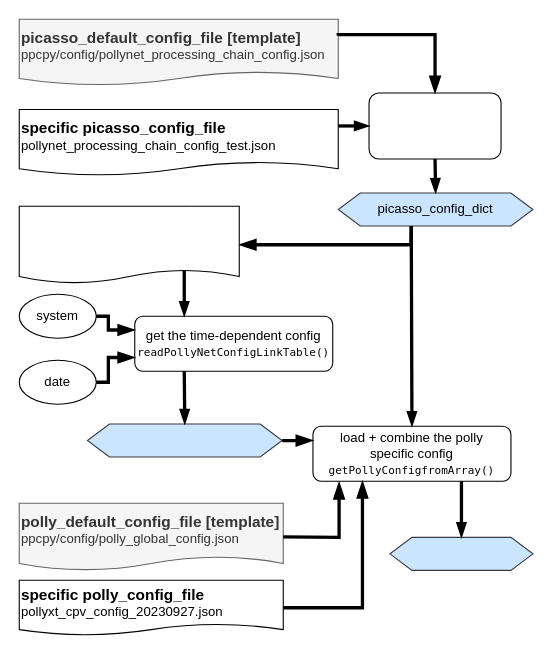
Some shapes in this 552 by 655 pixel diagram are drawn without their labels. Here are the shapes that lost their labels. From the top down, the box of each, then its label:
(368, 92, 501, 159): update template with specific config loadPicassoConfig()
(18, 205, 239, 283): pollynet_config_link_file [xlsx, csv]
(86, 423, 282, 457): polly_config_array
(389, 536, 533, 570): polly_config_dict
